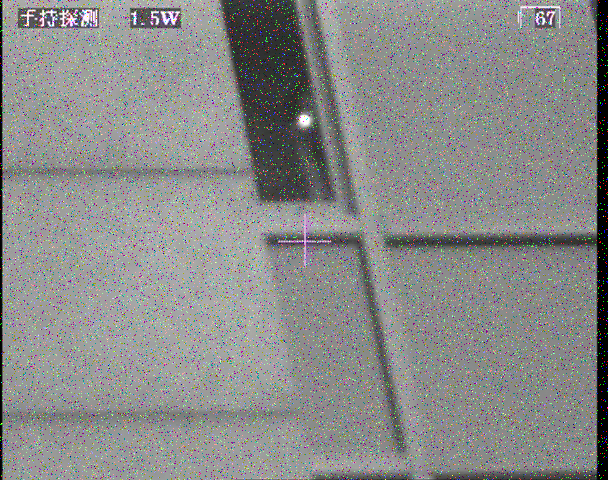my: (296, 113, 312, 128)
